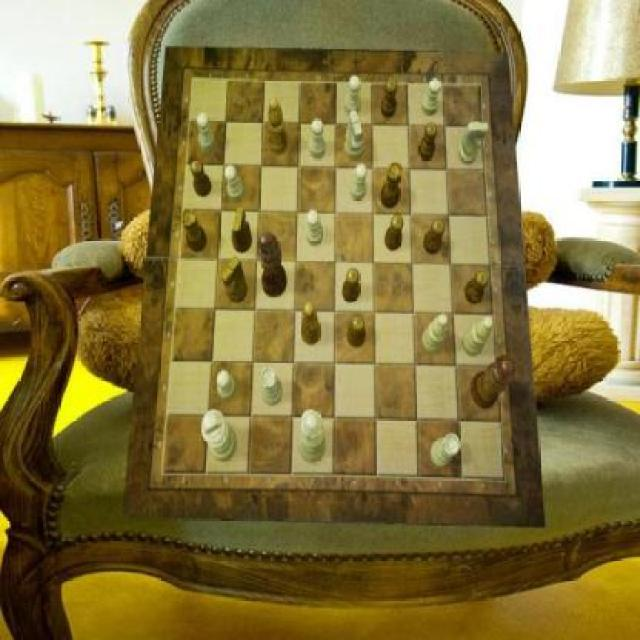bishop: (268, 97, 288, 155), (300, 301, 321, 344)
black-bishop: (257, 232, 288, 298)
black-king: (222, 257, 248, 303), (232, 208, 253, 254)
black-knight: (464, 269, 488, 304), (190, 159, 212, 196), (418, 123, 438, 161), (423, 219, 445, 253), (380, 80, 397, 118), (385, 216, 402, 252), (348, 316, 365, 350), (342, 269, 359, 303)
black-pawn: (471, 355, 517, 410)
black-queen: (182, 208, 208, 252), (380, 163, 402, 209)
black-rook: (461, 317, 494, 357), (422, 314, 448, 354)
white-bishop: (201, 409, 237, 463)
white-king: (457, 121, 488, 164), (346, 111, 366, 160)
white-knight: (344, 75, 362, 117), (422, 79, 442, 116), (226, 166, 246, 202), (197, 112, 215, 152), (349, 163, 367, 201), (309, 120, 326, 160), (306, 210, 323, 246), (217, 369, 236, 400)
white-pawn: (299, 409, 326, 463)
white-queen: (429, 432, 459, 467), (261, 368, 284, 406)
